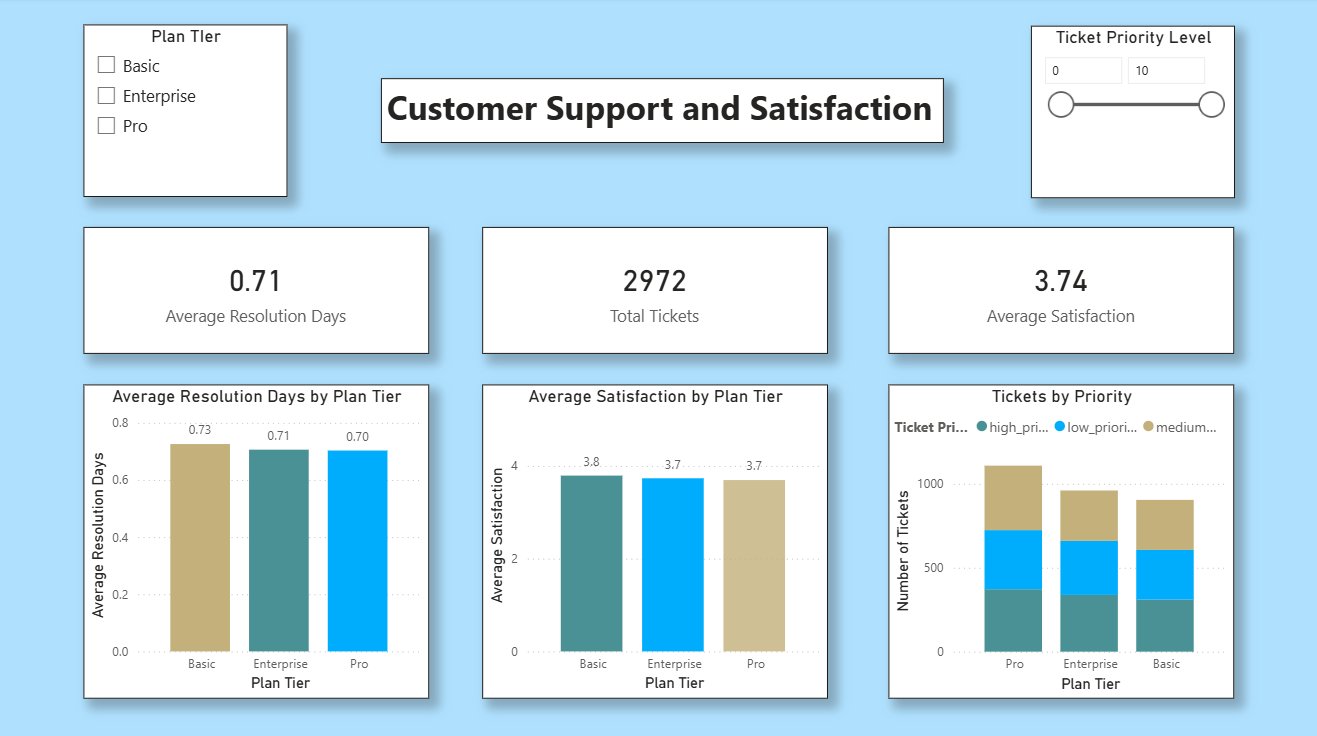

Layout of this report page (visuals, bound fields, positions):
{"tool":"powerbi","page":{"name":"Page 4","canvas":[1280,720],"ordinal":3},"visuals":[{"type":"card","fields":{"Values":["clean fact_support.Avg Resolution Days"]},"box":[9.7,111,334.2,121.9],"z":0},{"type":"kpi","title":"Average Satisfaction Score","fields":{"Indicator":["clean fact_support.Average Satisfaction"],"TrendLine":["clean accounts.account_id"],"Goal":["Avg(clean fact_support.Custom)"]},"box":[710.6,109.8,334.2,121.9],"z":1000},{"type":"slicer","title":"Plan TIer","fields":{"Values":["clean fact_accounts.plan_tier"]},"box":[1138.9,276.3,113.4,166.5],"z":2000},{"type":"card","fields":{"Values":["clean fact_support.Total Tickets"]},"box":[357.1,111,333,121.9],"z":3000},{"type":"columnChart","title":"Tickets by Priority","fields":{"Y":["Sum(fact_support_unpivoted.Tickets)"],"Category":["clean fact_accounts.plan_tier"],"Series":["fact_support_unpivoted.Ticket Priority"]},"box":[786.6,276.3,341.4,400.5],"z":4000},{"type":"slicer","title":"Ticket Priority Level","fields":{"Values":["clean fact_support.high_priority_tickets"]},"box":[1056.1,110,196,121.5],"z":5000},{"type":"columnChart","title":"Average Resolution Days by Plan Tier","fields":{"Y":["clean fact_support.Avg Resolution Days"],"Category":["clean fact_accounts.plan_tier"]},"box":[9.7,276.3,375.2,400.5],"z":6000},{"type":"columnChart","title":"Average Satisfaction by Plan Tier","fields":{"Y":["clean fact_support.Average Satisfaction"],"Category":["clean fact_accounts.plan_tier"]},"box":[396.9,276.3,374,400.5],"z":7000},{"type":"textbox","box":[368,26.5,542.9,62.7],"z":8000},{"type":"slicer","title":"Account ","fields":{"Values":["clean fact_support.account_id"]},"box":[1138.9,464.5,113.4,212.3],"z":8001}]}

Visuals, with their boxes in screenshot pixels (x1, y1, x2, y2), scaled from the page's 1280x720 canvas onto the 1317x736 screenshot:
card - clean fact_support.Avg Resolution Days: (10,113,354,238)
"Average Satisfaction Score" kpi: (731,112,1075,237)
"Plan TIer" slicer: (1172,282,1288,453)
card - clean fact_support.Total Tickets: (367,113,710,238)
"Tickets by Priority" columnChart: (809,282,1161,692)
"Ticket Priority Level" slicer: (1087,112,1288,237)
"Average Resolution Days by Plan Tier" columnChart: (10,282,396,692)
"Average Satisfaction by Plan Tier" columnChart: (408,282,793,692)
textbox: (379,27,937,91)
"Account " slicer: (1172,475,1288,692)
